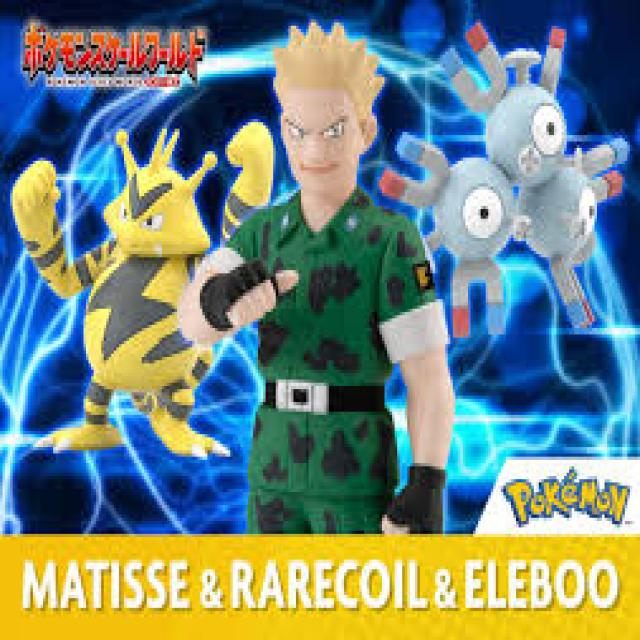Electabuzz: (63, 137, 230, 452)
Magneton: (438, 73, 604, 280)
